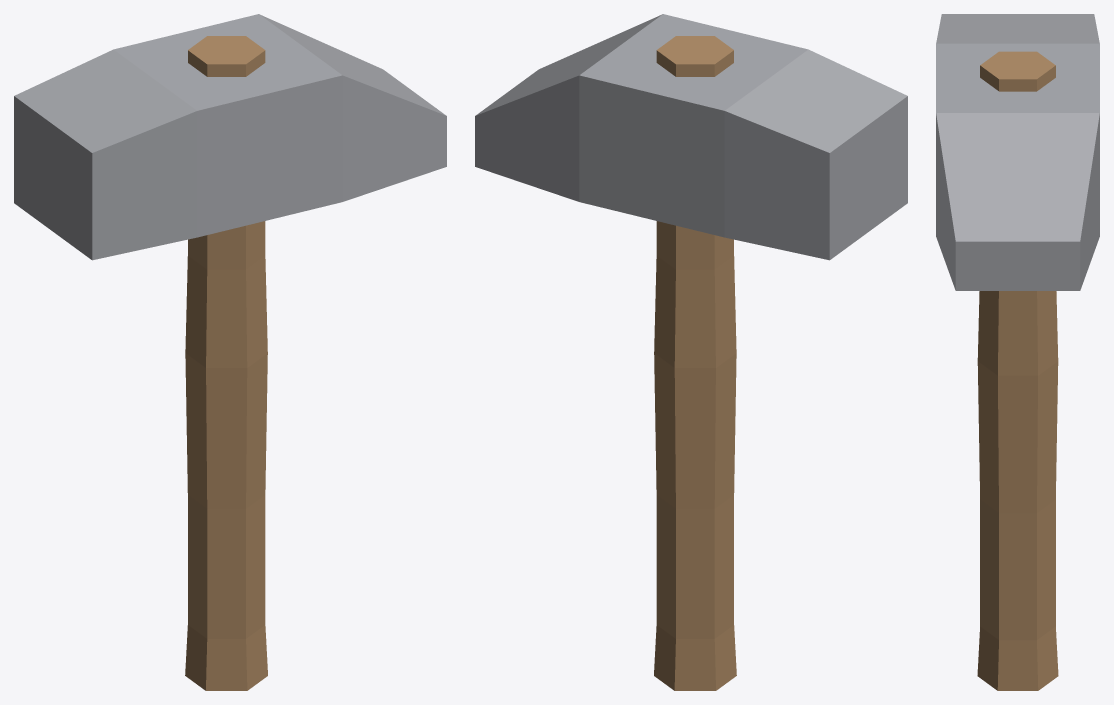
The model's file is hammer.glb.
The picture shows the model from 3 angles, left to right: view 1: azimuth 30°, elevation 25°; view 2: azimuth 150°, elevation 25°; view 3: azimuth 270°, elevation 25°; orthographic projection. The views are drawn at different scales.
Parts seen in each view (by area): view 1: SmithsHammer.001; view 2: SmithsHammer.001; view 3: SmithsHammer.001.
Part boxes in pixels (x1=…): SmithsHammer.001: x1=14, y1=14, x2=446, y2=690; SmithsHammer.001: x1=475, y1=14, x2=907, y2=690; SmithsHammer.001: x1=936, y1=14, x2=1099, y2=690.
Size of the model in its own units: 0.1915 by 0.3163 by 0.0769.
